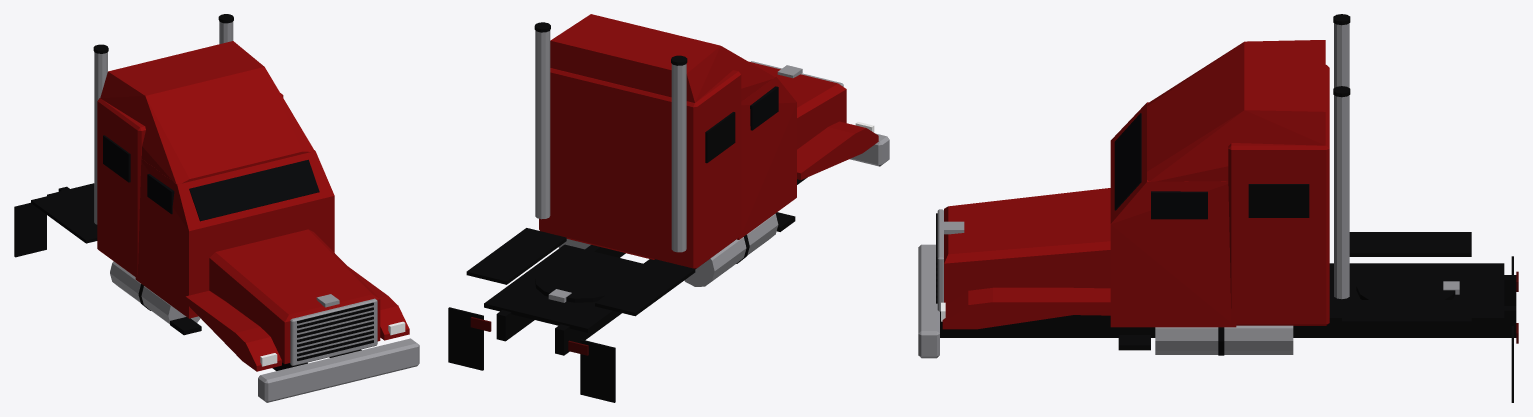
File: Semi Truck.obj
The picture shows the model from 3 angles, left to right: view 1: azimuth 30°, elevation 25°; view 2: azimuth 150°, elevation 25°; view 3: azimuth 270°, elevation 25°; orthographic projection. The views are drawn at different scales.
Parts seen in each view (by area): view 1: Body, Chrome, Trim, Glass, Headlights; view 2: Body, Trim, Chrome, Glass, Taillights; view 3: Body, Trim, Chrome, Glass.
Boxes of the visible parts, x1=… form: Body: x1=97, y1=41, x2=409, y2=371; Chrome: x1=94, y1=21, x2=419, y2=402; Trim: x1=14, y1=14, x2=373, y2=370; Glass: x1=147, y1=159, x2=319, y2=221; Headlights: x1=260, y1=321, x2=405, y2=366; Body: x1=539, y1=14, x2=878, y2=269; Trim: x1=448, y1=22, x2=807, y2=402; Chrome: x1=535, y1=30, x2=889, y2=302; Glass: x1=750, y1=86, x2=778, y2=130; Taillights: x1=470, y1=317, x2=588, y2=355; Body: x1=942, y1=40, x2=1329, y2=329; Trim: x1=936, y1=14, x2=1516, y2=402; Chrome: x1=918, y1=23, x2=1459, y2=358; Glass: x1=1114, y1=113, x2=1207, y2=219.
Bounding box in the file's own units: 2.6 × 4.15 × 7.4.
